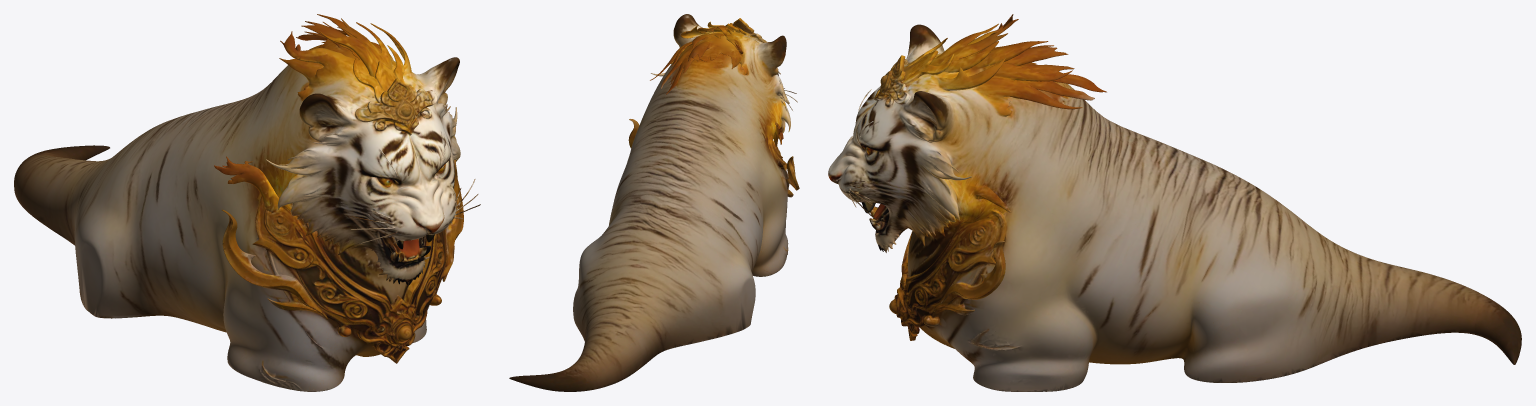
Rendered from bai-hu.glb.
3 views of the same model, side by side, from view 1: azimuth 30°, elevation 25°; view 2: azimuth 150°, elevation 25°; view 3: azimuth 270°, elevation 25° (orthographic). The views are drawn at different scales.
Visible parts, largest first — view 1: node_0; view 2: node_0; view 3: node_0.
Part boxes in pixels (left/top/right/bottom): node_0: left=14, top=14, right=480, bottom=391; node_0: left=509, top=14, right=799, bottom=391; node_0: left=828, top=14, right=1521, bottom=391.
Bounding box in the file's own units: 0.4733 × 0.543 × 1.07.
1 material, 1 textured.
